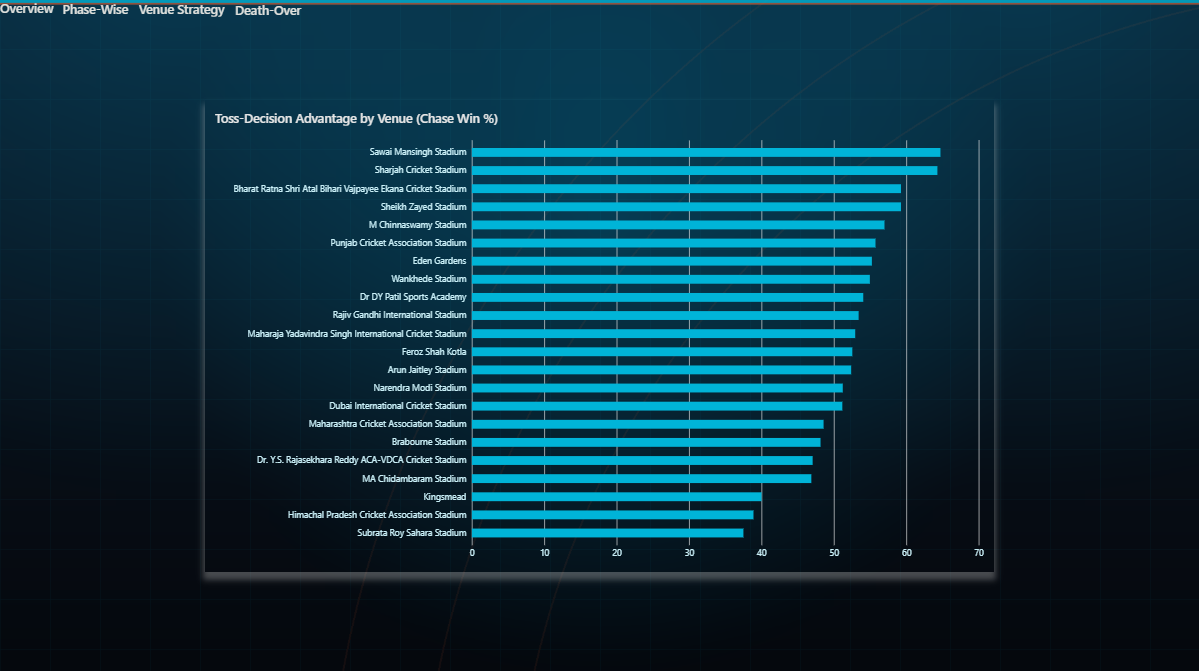

The dashboard page shown, as its layout file describes it:
{"tool":"powerbi","page":{"name":"Venue Strategy","canvas":[1920,1080],"ordinal":2},"visuals":[{"type":"image","box":[0,0,1920,1080],"z":0},{"type":"clusteredBarChart","title":"Toss-Decision Advantage by Venue (Chase Win %)","fields":{"Category":["Query1.canonical_venue"],"Y":["Sum(Query1.chase_win_pct)"]},"box":[327.5,162.9,1262,754],"z":1000},{"type":"actionButton","title":"Overview","box":[0,0,100,30],"z":2000},{"type":"actionButton","title":"Phase-Wise","box":[99.5,1.8,119.4,29],"z":2001},{"type":"actionButton","title":"Venue Strategy","box":[222.6,1.8,153.8,30.8],"z":2002},{"type":"actionButton","title":"Death-Over Bowlers","box":[376.4,3.6,117.6,30.8],"z":2003}]}

Visuals, with their boxes on the page's 1920x1080 design canvas (x1, y1, x2, y2). These are canvas units, not pixel positions in the 1199x671 screenshot, which may show the page scaled, cropped or inside an application window:
image: bbox(0, 0, 1920, 1080)
"Toss-Decision Advantage by Venue (Chase Win %)" clusteredBarChart: bbox(328, 163, 1590, 917)
"Overview" actionButton: bbox(0, 0, 100, 30)
"Phase-Wise" actionButton: bbox(100, 2, 219, 31)
"Venue Strategy" actionButton: bbox(223, 2, 376, 33)
"Death-Over Bowlers" actionButton: bbox(376, 4, 494, 34)
